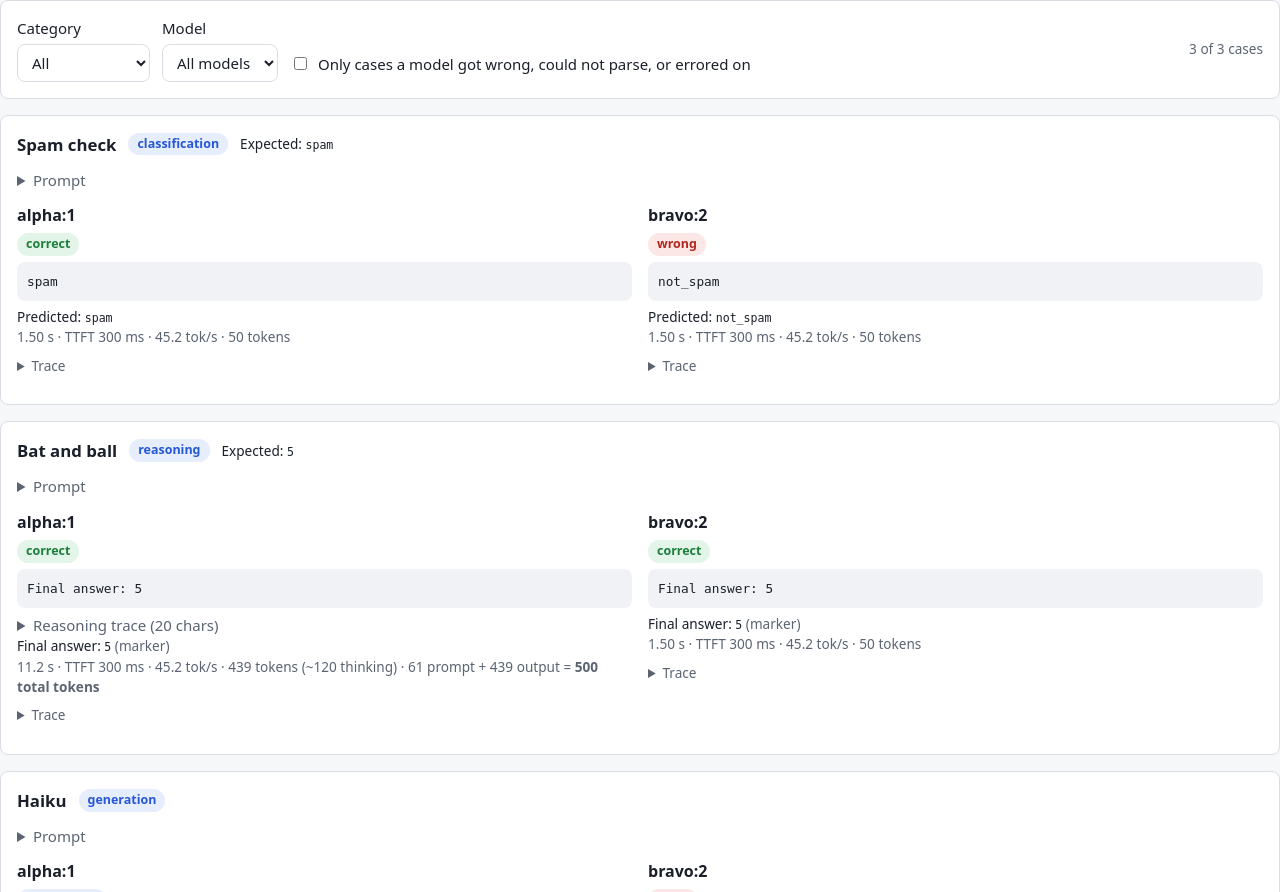
Test: 9.8 case drill-down › scopes the failure filter to one model and shows only that model
Select "alpha:1" in the dropdown labelled "Model": {"x": 220, "y": 62} [162,44,278,82]
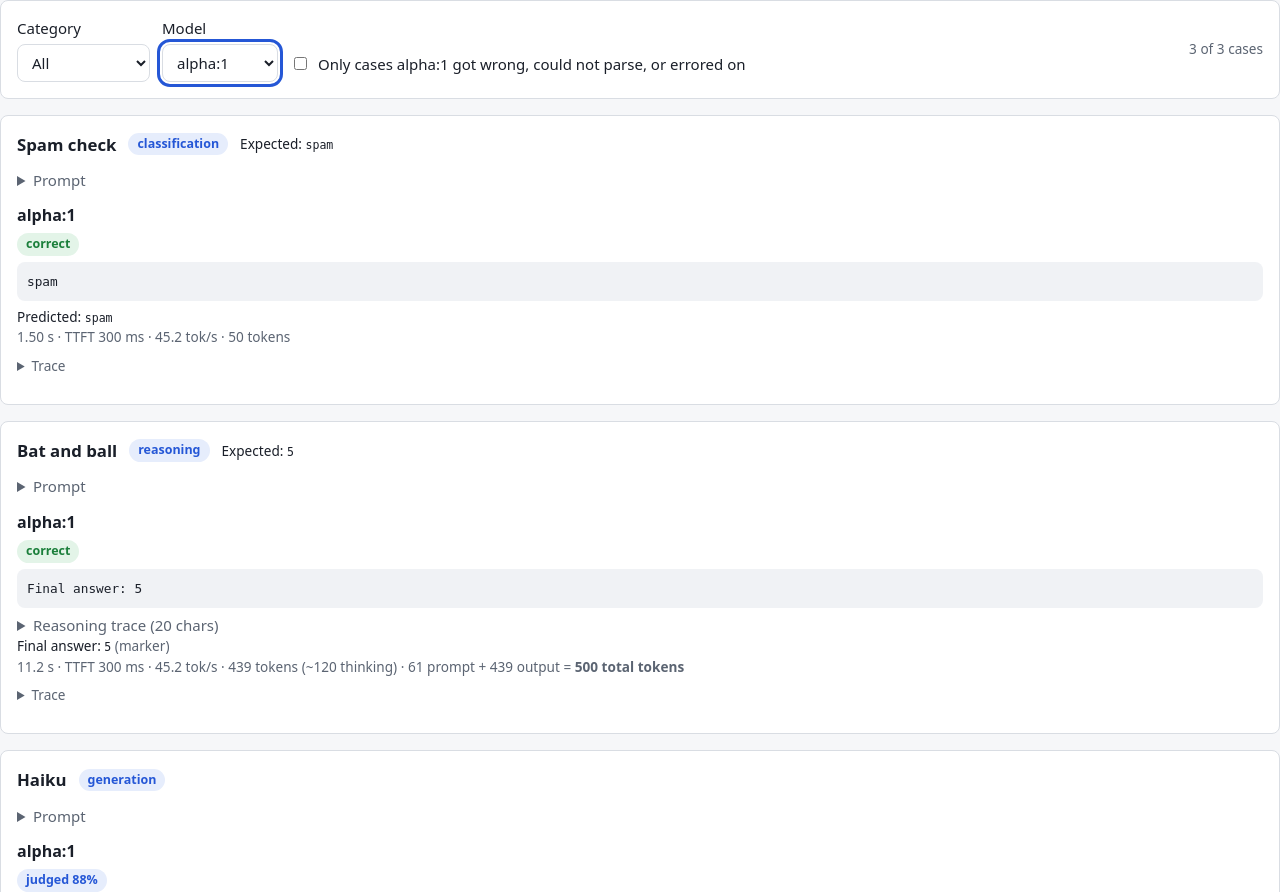
Click the checkbox labelled "Only cases alpha:1 got wrong, could not parse, or errored on": {"x": 300, "y": 64} [294,57,307,70]
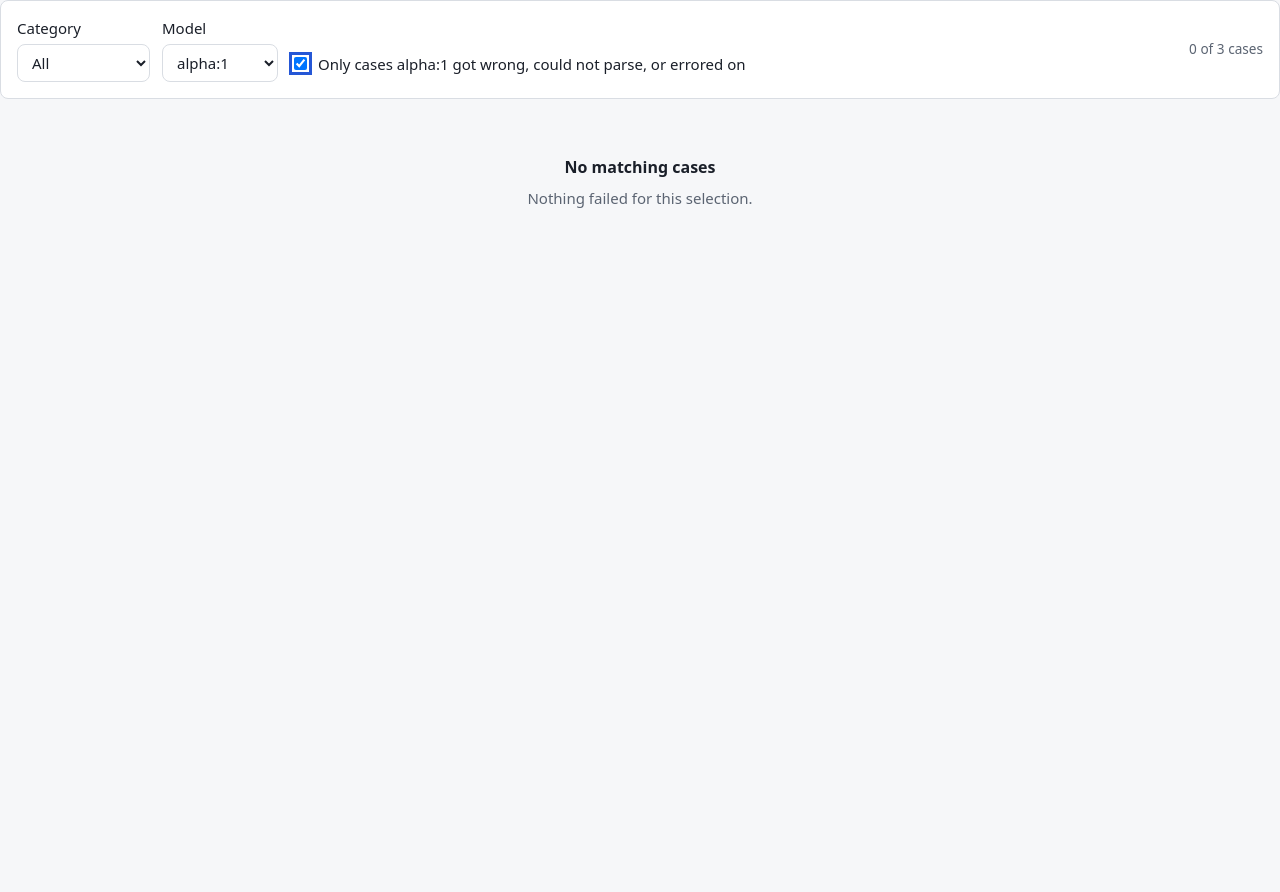
expect the heading "No matching cases" is shown: met, box [564,156,716,178]
expect the text "Nothing failed for this selection." is shown: met, box [527,188,752,208]
